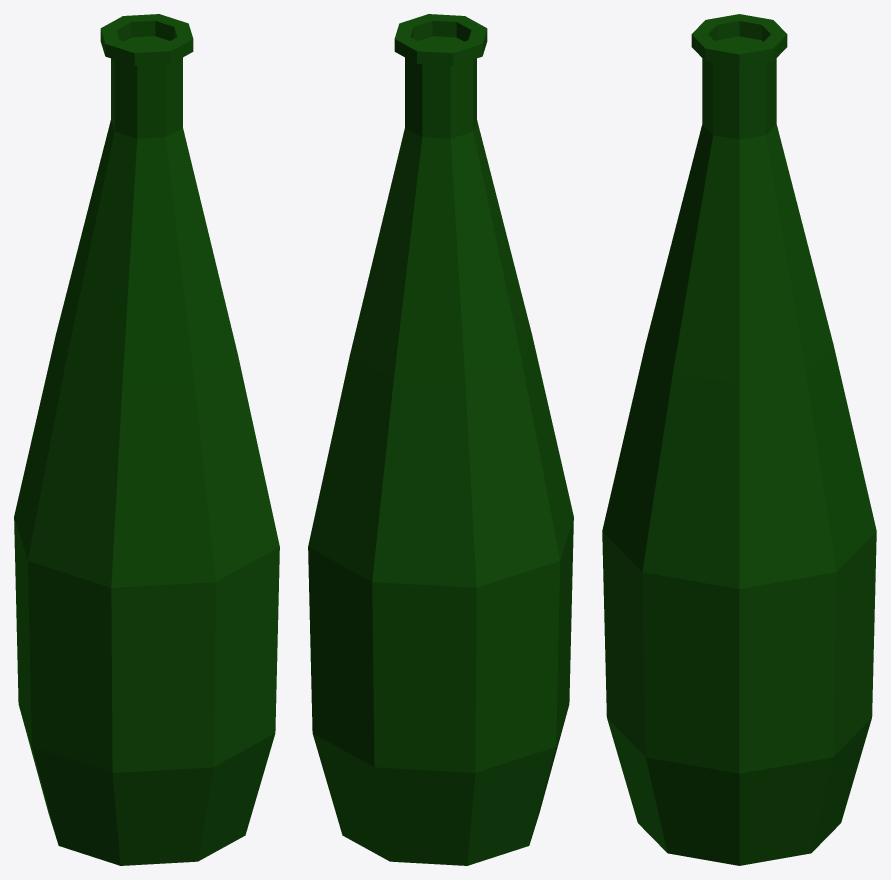
The model's file is prop_gd_bottle.glb.
3 views of the same model, side by side, from view 1: azimuth 30°, elevation 25°; view 2: azimuth 150°, elevation 25°; view 3: azimuth 270°, elevation 25° (orthographic).
Visible parts, largest first — view 1: Bottle1; view 2: Bottle1; view 3: Bottle1.
Part boxes in pixels (<box>): Bottle1: <box>14,14,279,865</box>; Bottle1: <box>308,14,573,865</box>; Bottle1: <box>602,14,876,865</box>.
Size of the model in its own units: 0.1578 by 0.5002 by 0.1578.
